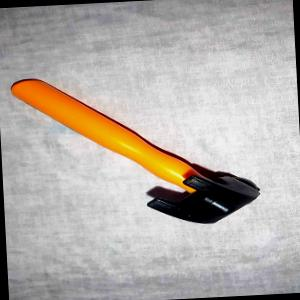martelo: (5, 65, 262, 236)
